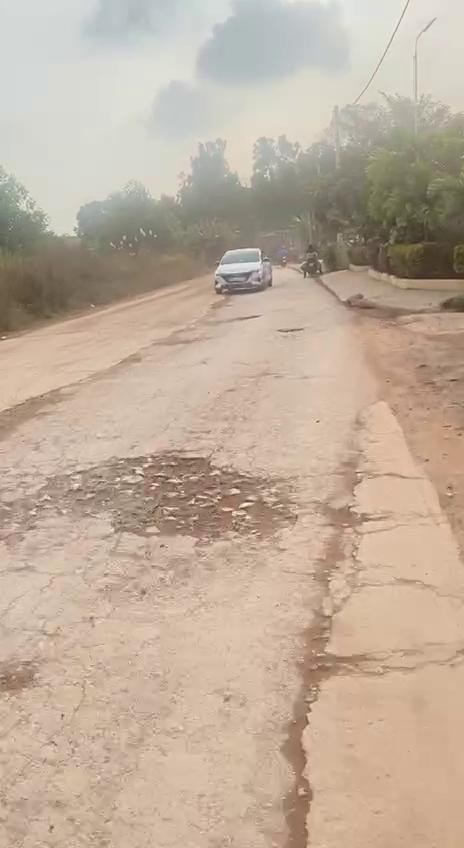pothole: (32, 442, 310, 552)
